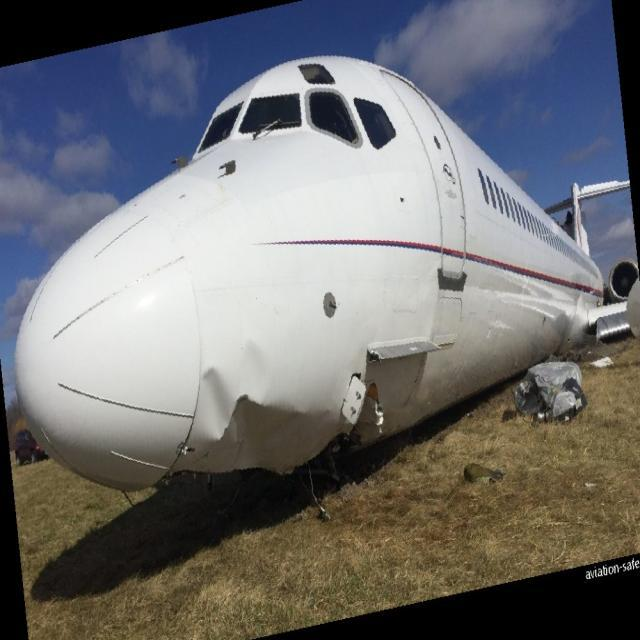dent: (202, 366, 233, 437), (244, 342, 269, 405)
